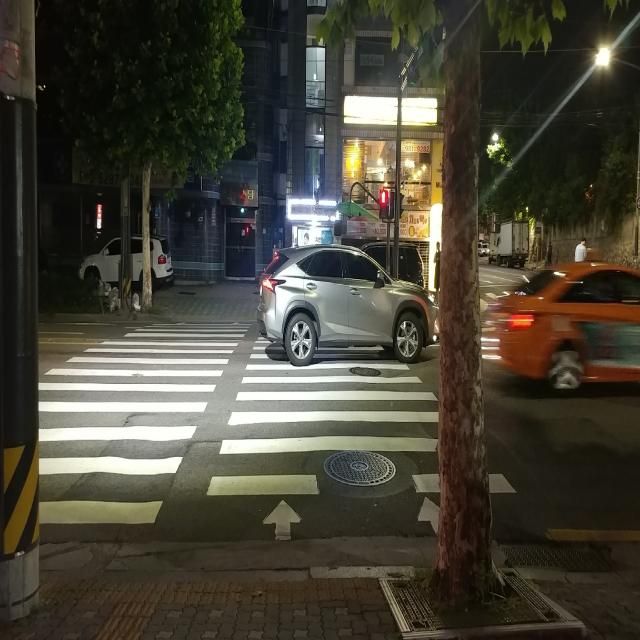빨간불: (380, 188, 387, 216)
횡단보도: (38, 322, 518, 544)
